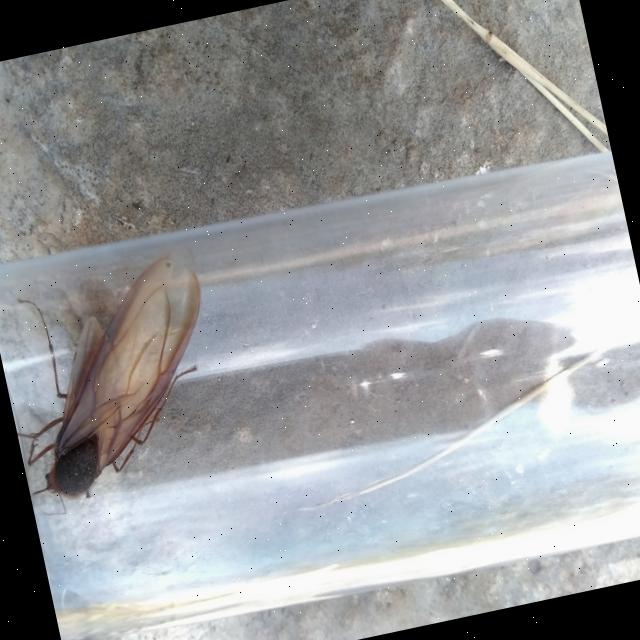Alive-Male-Alate: (0, 249, 241, 521)
